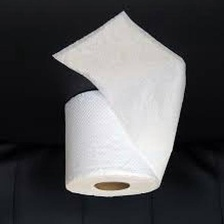tissue: (46, 7, 191, 201)
